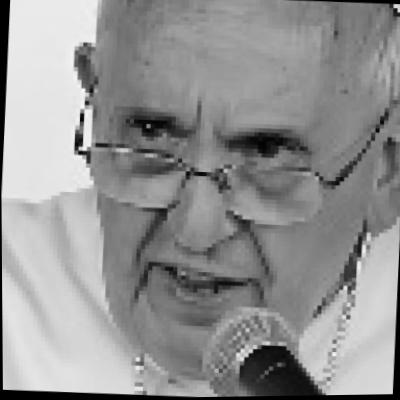angry: (79, 0, 376, 372)
